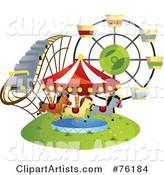horse: (35, 89, 74, 121), (88, 92, 123, 123), (62, 96, 97, 123)
